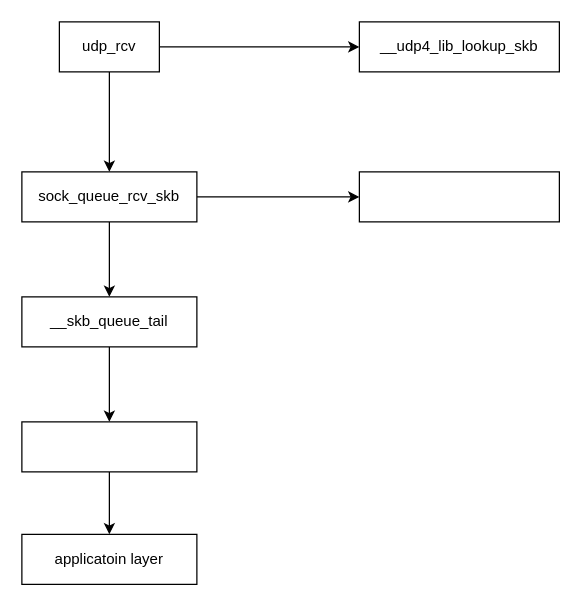
Some shapes in this 581 by 606 pixel diagram are drawn without their labels. Each missing label, with the centre of its shape:
"sk_data_ready" belongs at (x=109, y=446).
"sk_filter" belongs at (x=458, y=196).
